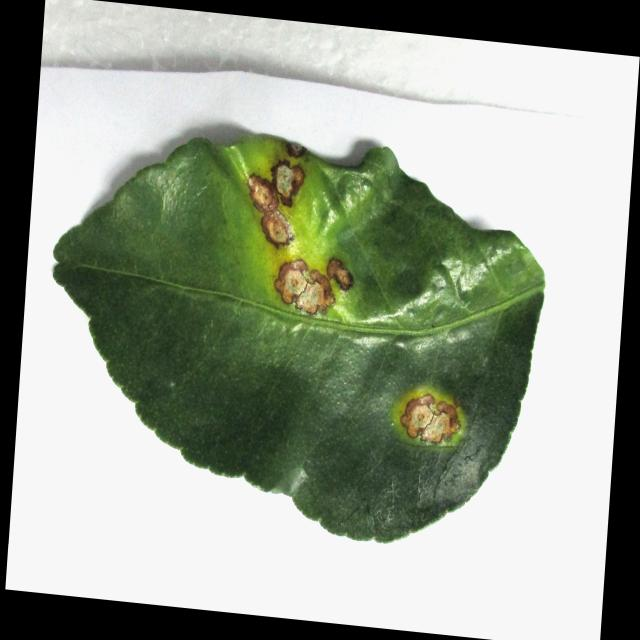antracnose: (54, 137, 544, 541), (401, 394, 460, 444), (296, 270, 333, 314), (271, 160, 305, 207), (274, 260, 307, 303), (248, 174, 278, 214), (262, 210, 292, 248), (327, 257, 353, 291)
